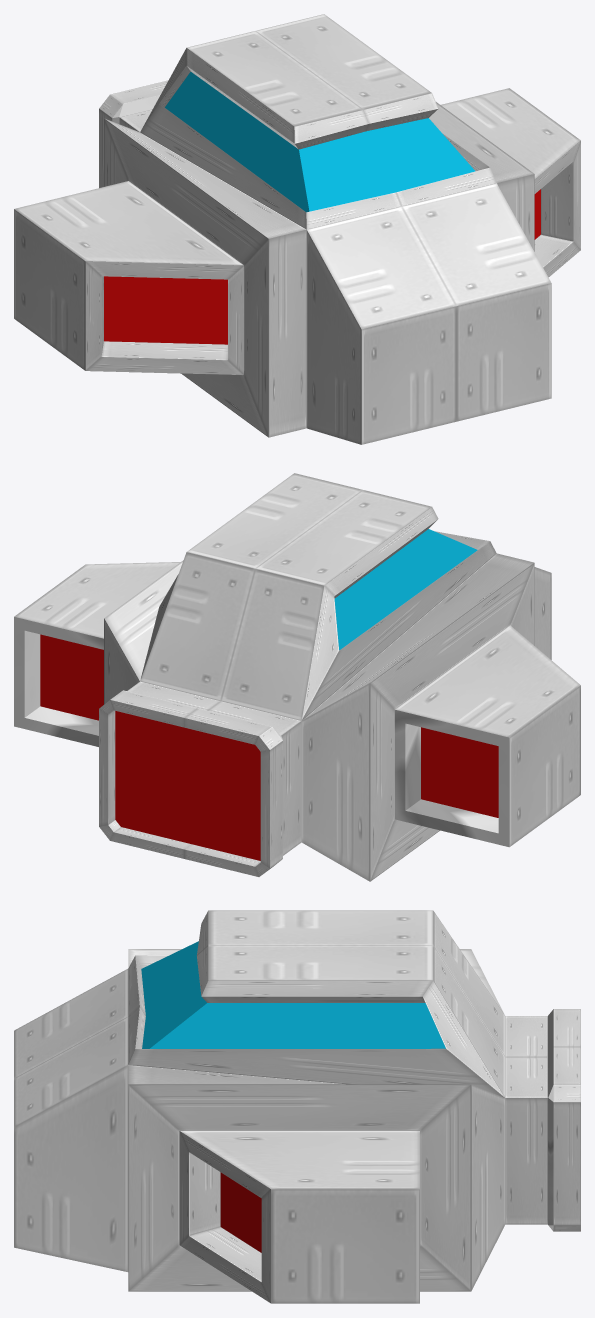
The model's file is Ship.fbx.
3 views of the same model, one above another, from view 1: azimuth 30°, elevation 25°; view 2: azimuth 150°, elevation 25°; view 3: azimuth 270°, elevation 25° (orthographic). The views are drawn at different scales.
Parts seen in each view (by area): view 1: Ship; view 2: Ship; view 3: Ship.
Boxes of the visible parts, left/top/right/bottom form: Ship: left=14, top=14, right=580, bottom=444; Ship: left=14, top=473, right=580, bottom=881; Ship: left=14, top=910, right=580, bottom=1303.
Size of the model in its own units: 32.6 by 16.8 by 31.
1 material, 1 textured.
